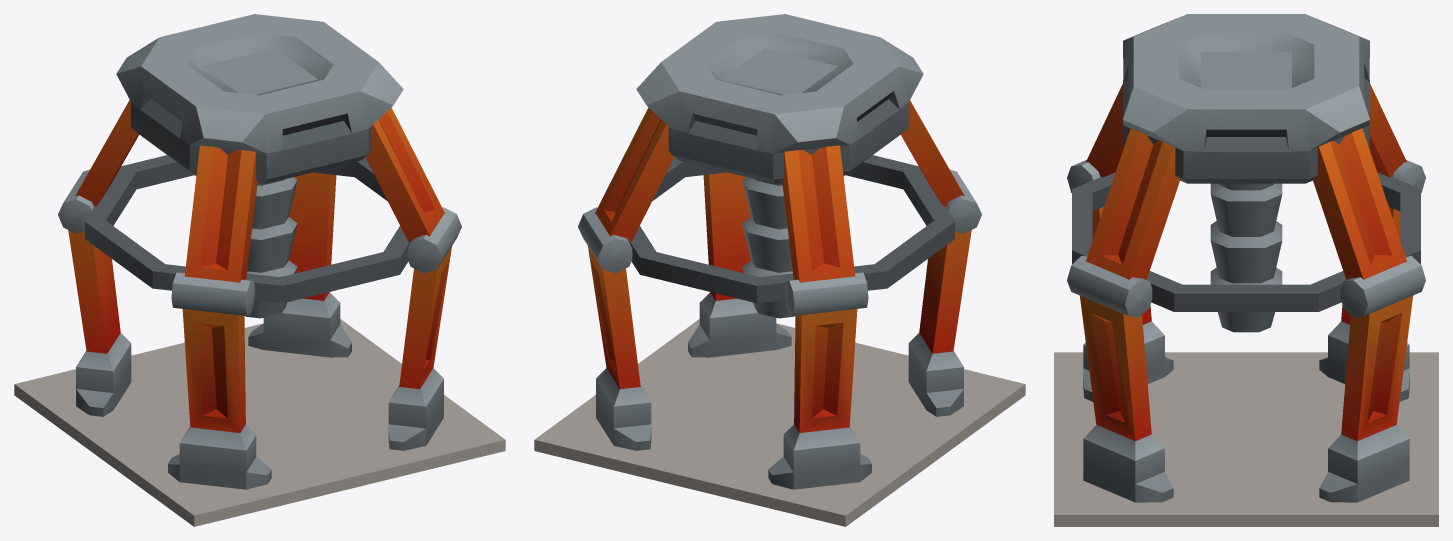
Rendered from drill_station.glb.
3 renders of one model, left to right at view 1: azimuth 30°, elevation 25°; view 2: azimuth 150°, elevation 25°; view 3: azimuth 270°, elevation 25°, orthographic. The views are drawn at different scales.
Parts seen in each view (by area): view 1: Drillstation; view 2: Drillstation; view 3: Drillstation.
Part boxes in pixels (x1,y1,x2,y2): Drillstation: (14, 14, 505, 526); Drillstation: (534, 14, 1025, 526); Drillstation: (1054, 14, 1438, 526).
Bounding box in the file's own units: 0.29 × 0.3194 × 0.29.
1 material, 1 textured.
